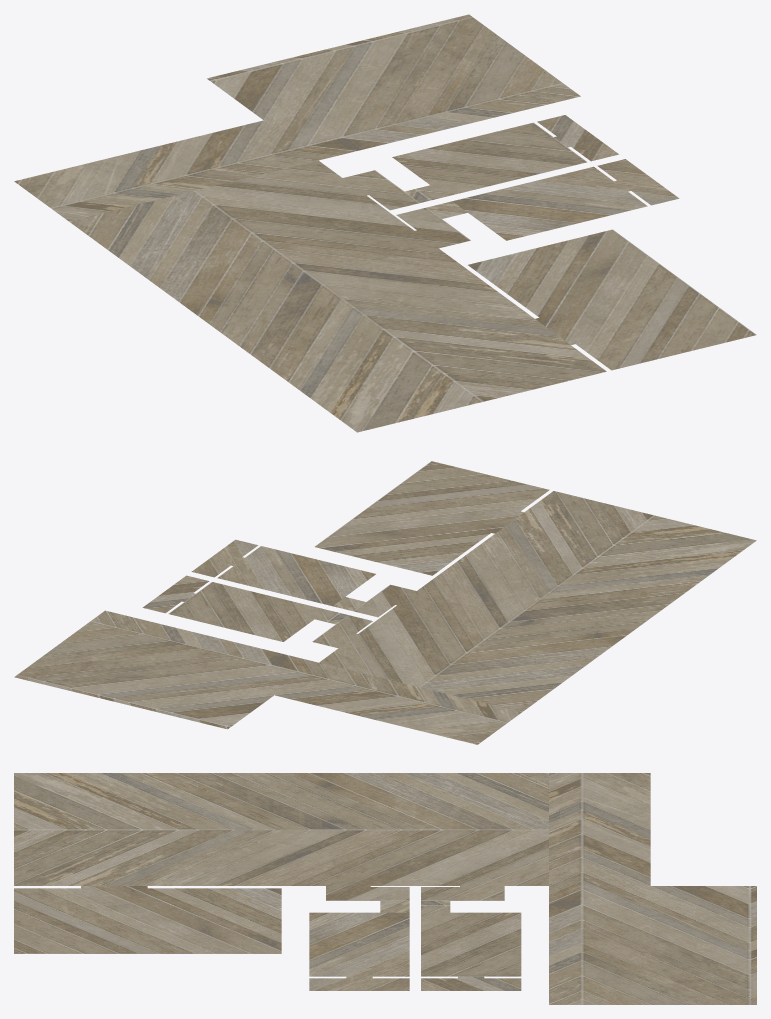
The model's file is Gym_Floors.fbx.
3 views of the same model, one above another, from view 1: azimuth 30°, elevation 25°; view 2: azimuth 150°, elevation 25°; view 3: azimuth 270°, elevation 25° (orthographic). The views are drawn at different scales.
Parts seen in each view (by area): view 1: Plane.095, Plane.146, Plane.112, Plane.063, Plane.143, Plane.062; view 2: Plane.095, Plane.146, Plane.112, Plane.063, Plane.143, Plane.062; view 3: Plane.095, Plane.146, Plane.112, Plane.063, Plane.143, Plane.062.
Boxes of the visible parts, x1,y1,x2,y2 form: Plane.095: (69, 160, 606, 432); Plane.146: (14, 14, 580, 221); Plane.112: (468, 229, 756, 370); Plane.063: (452, 159, 679, 240); Plane.143: (392, 122, 587, 202); Plane.062: (537, 115, 618, 161); Plane.095: (312, 491, 756, 711); Plane.146: (14, 610, 521, 744); Plane.112: (314, 461, 549, 575); Plane.063: (191, 539, 375, 606); Plane.143: (168, 582, 347, 641); Plane.062: (142, 575, 209, 613); Plane.095: (14, 773, 548, 900); Plane.146: (549, 773, 756, 1004); Plane.112: (14, 886, 281, 953); Plane.063: (309, 912, 409, 990); Plane.143: (421, 901, 521, 976); Plane.062: (421, 976, 521, 990).
Size of the model in its own units: 3606 by 4881 by 0.
